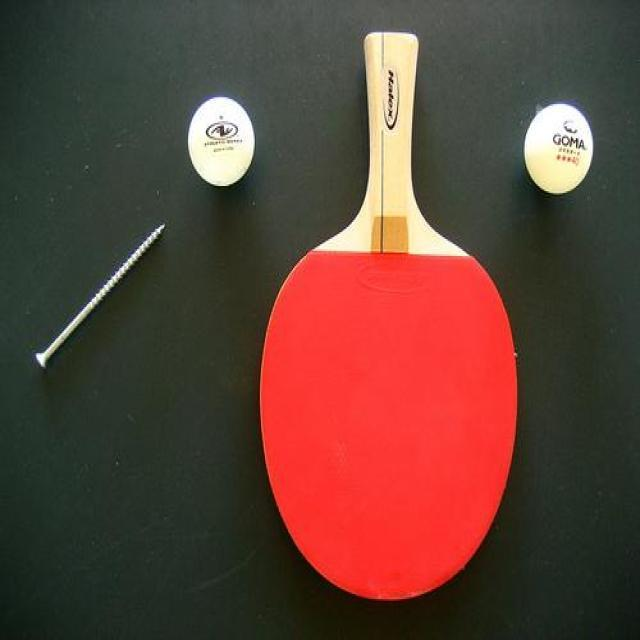ping-pong-ball: (524, 102, 595, 196), (188, 96, 255, 186)
